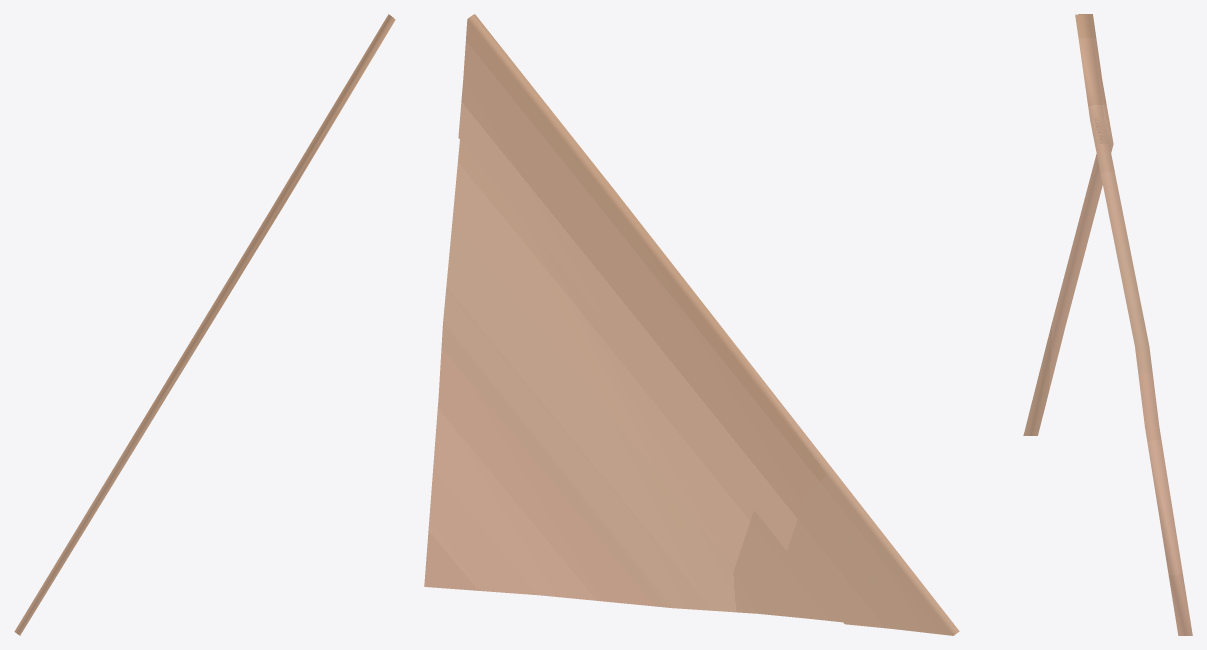
3 views of the same model, side by side, from view 1: azimuth 30°, elevation 25°; view 2: azimuth 150°, elevation 25°; view 3: azimuth 270°, elevation 25° (orthographic). The views are drawn at different scales.
Bounding box in the file's own units: 0.412 × 0.4721 × 0.1408.
Materials: 1 (1 with a texture image).
